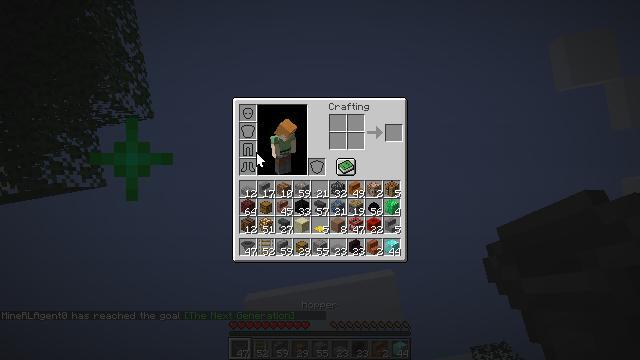cursor: (256, 152, 266, 168)
